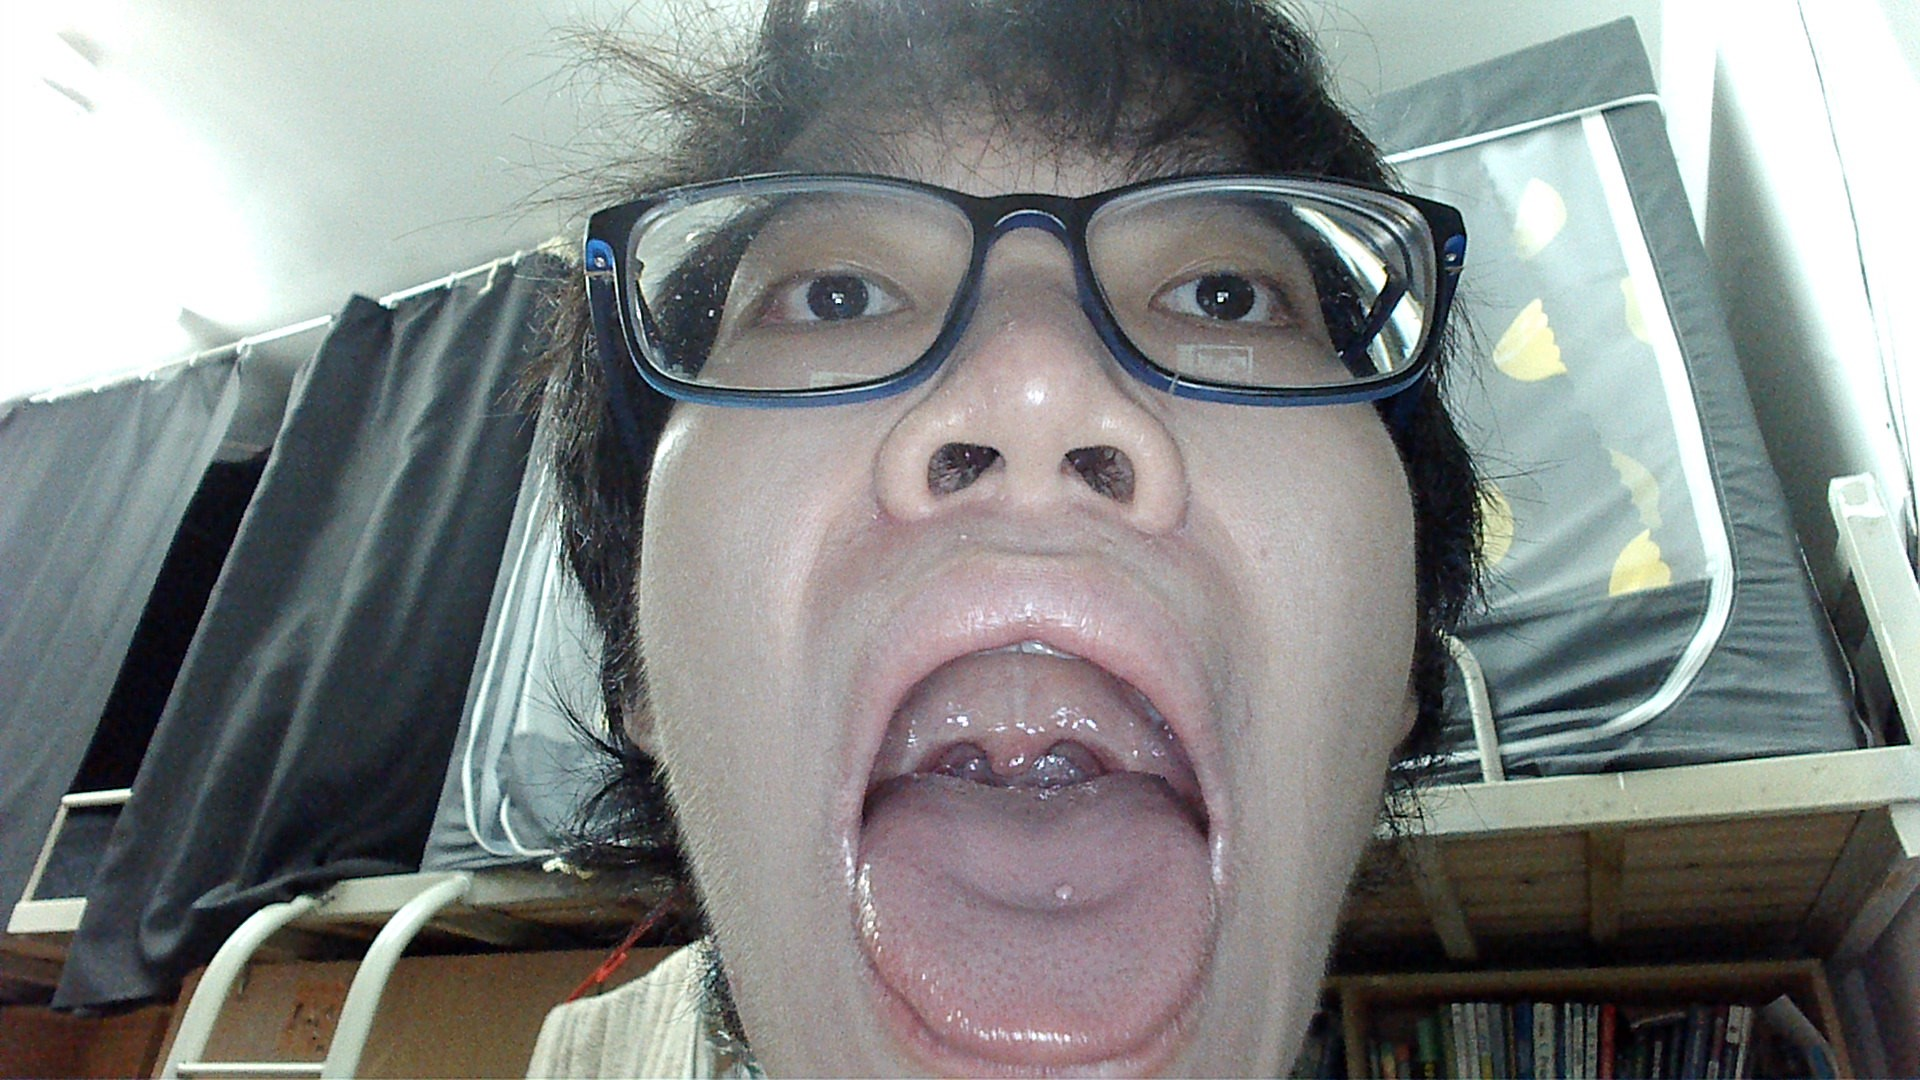throat: (1077, 688, 1134, 771), (910, 704, 963, 775)
